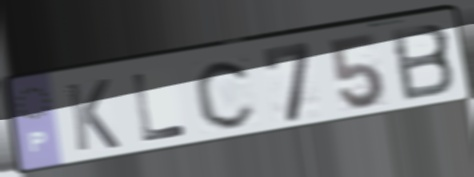5: (325, 29, 388, 111)
7: (259, 38, 315, 126)
B: (387, 21, 459, 105)
C: (192, 56, 260, 132)
K: (63, 76, 123, 155)
L: (129, 70, 190, 145)
